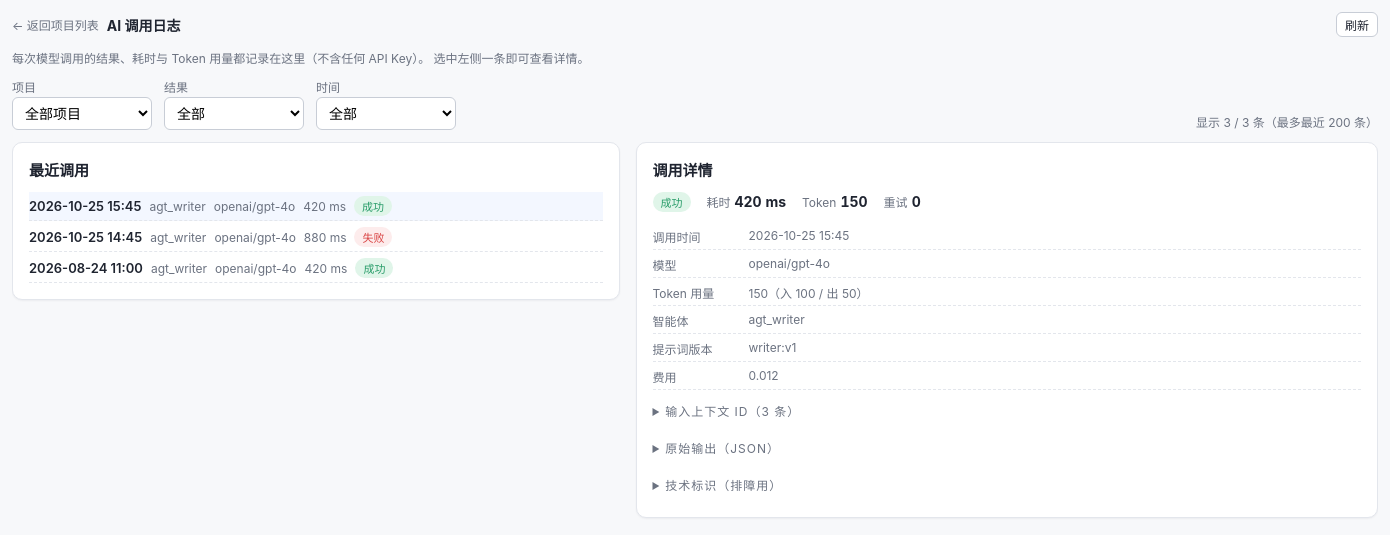
AiCallLogsPage › 过滤条：结果=失败只留失败行；时间=今天隐藏旧日志
The width and height of the screenshot is (1390, 535).
Check: the element with test id "ai-log-row-aic_old" is shown, box [29,254,602,283]
// 结果状态过滤（前端内存过滤）
Select "失败" in the dropdown with test id "ai-logs-filter-result": (234, 114) [164,97,304,130]
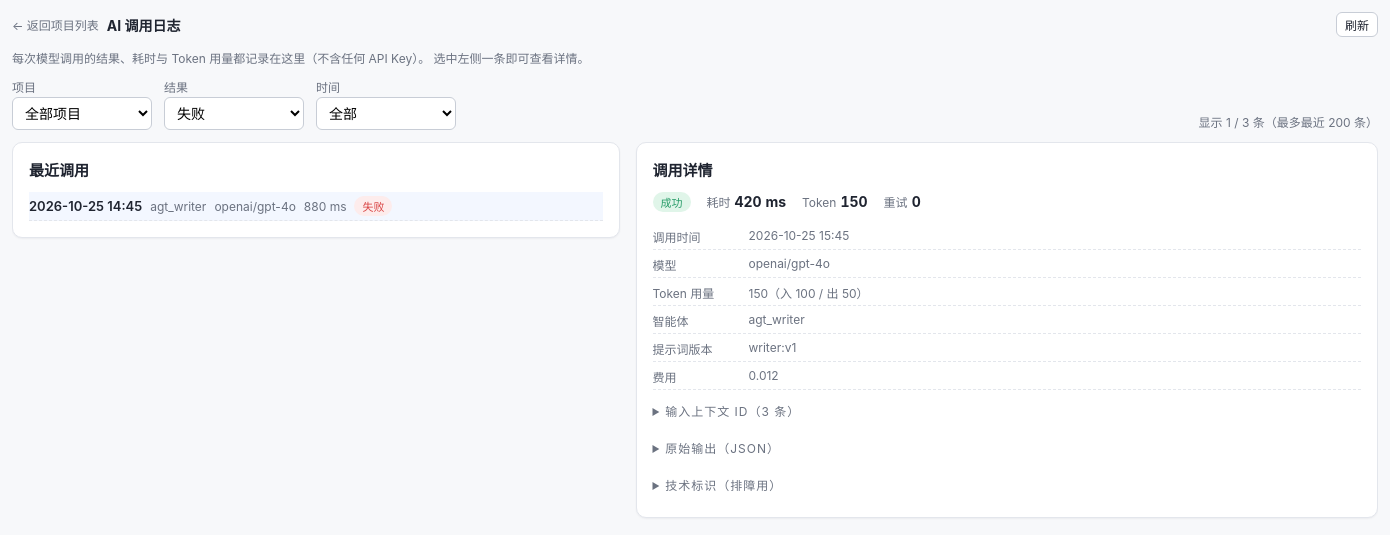
Check: the element with test id "ai-log-row-aic_002" is shown, box [29,192,602,221]
Check: the element with test id "ai-log-row-aic_001" is gone
Check: the element with test id "ai-log-row-aic_old" is gone
// 时间过滤：今天 → 上月那条被排除（在「全部结果」下验证）
Select "全部" in the dropdown with test id "ai-logs-filter-result": (234, 114) [164,97,304,130]
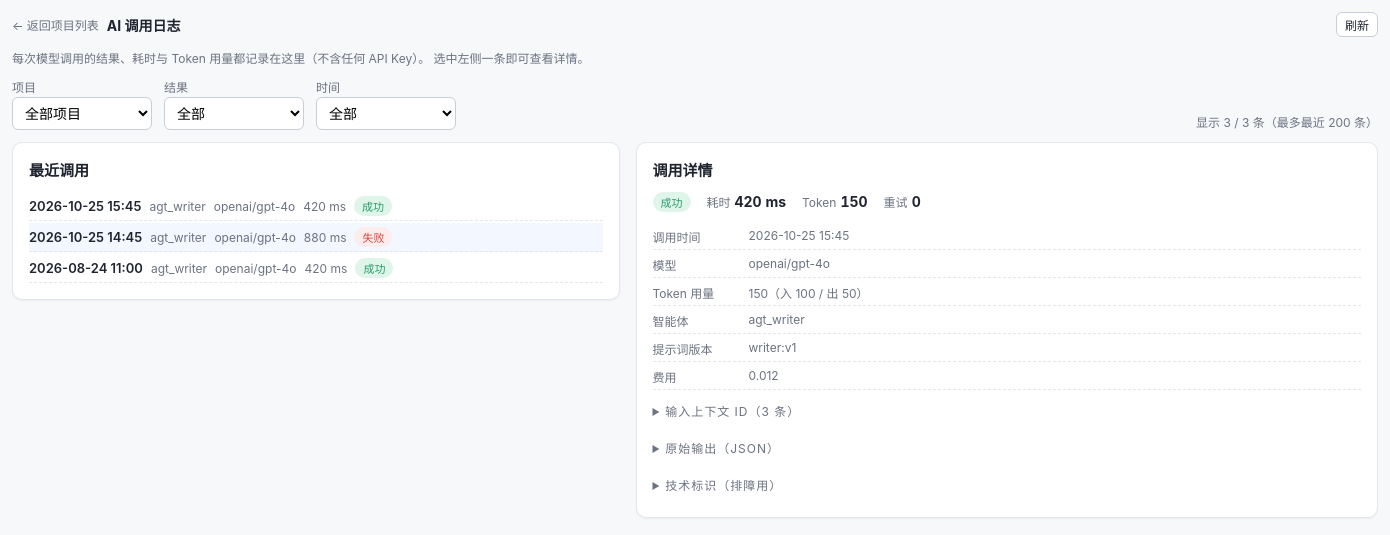
Select "今天" in the dropdown with test id "ai-logs-filter-time": (386, 114) [316,97,456,130]
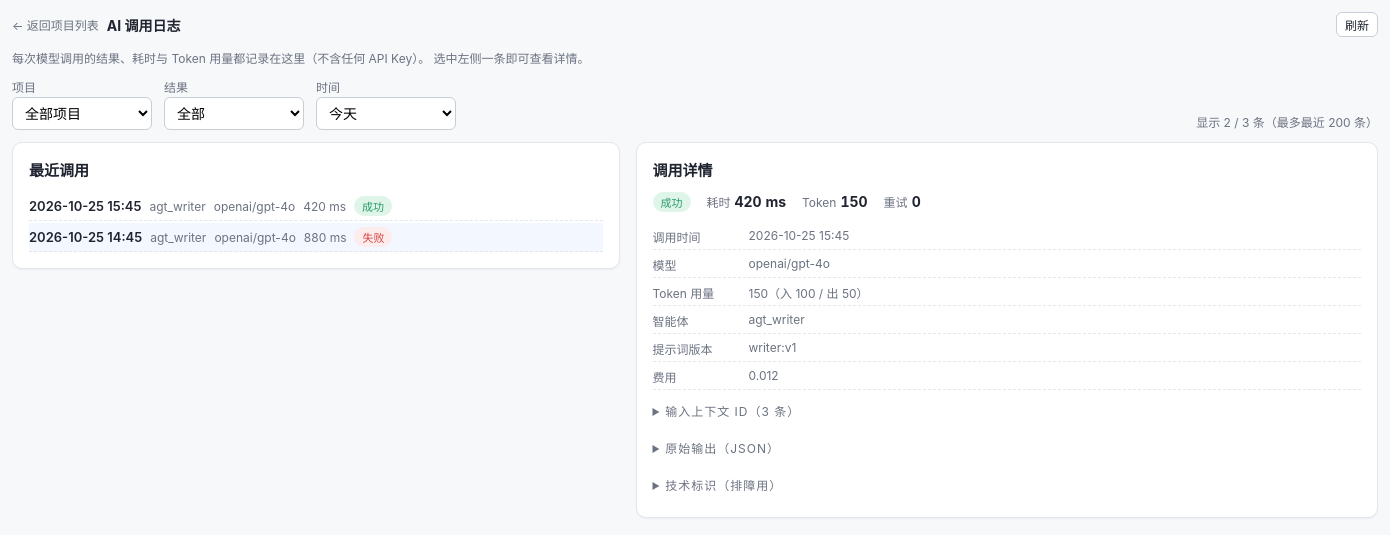
Check: the element with test id "ai-log-row-aic_001" is shown, box [29,192,602,221]
Check: the element with test id "ai-log-row-aic_old" is gone
